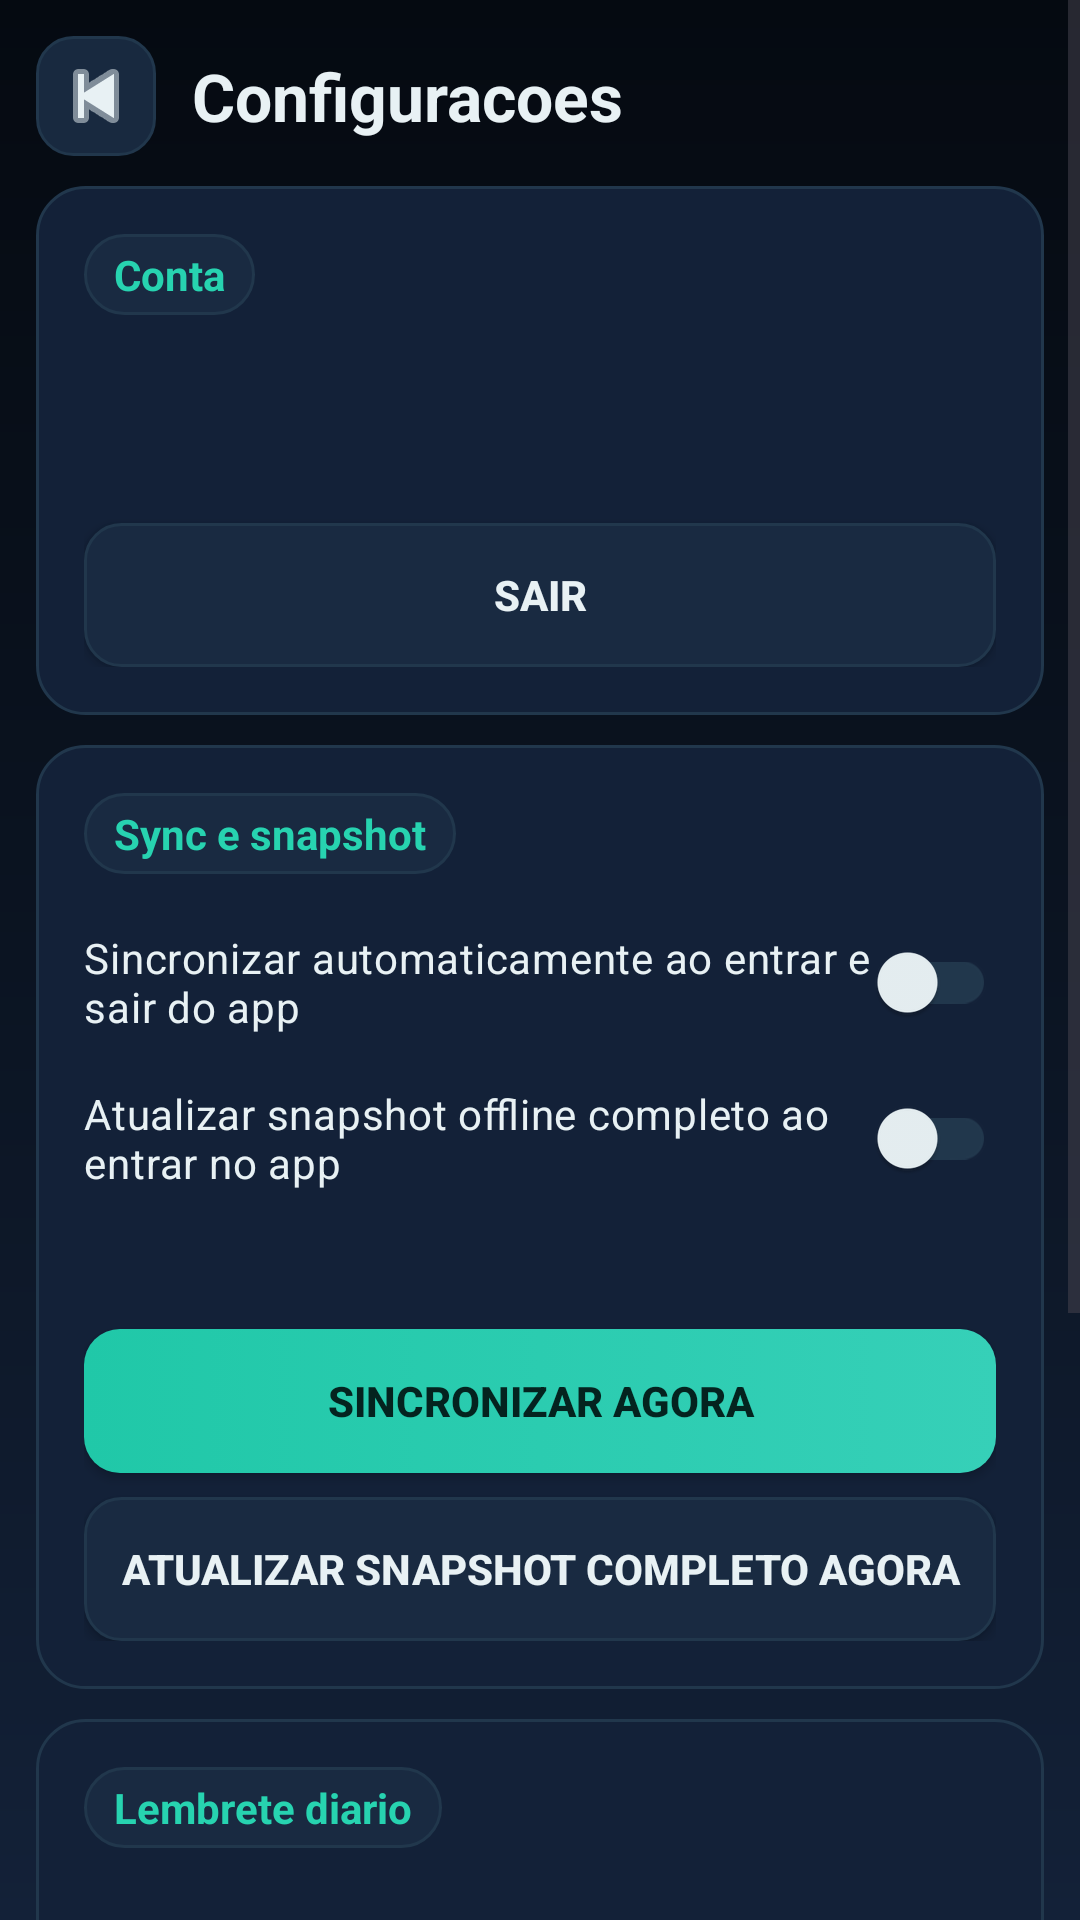

Icons on this 1080*1920 Android screen, each with its box as (x1, y1, x2, y2):
Voltar: (36, 36, 156, 156)
